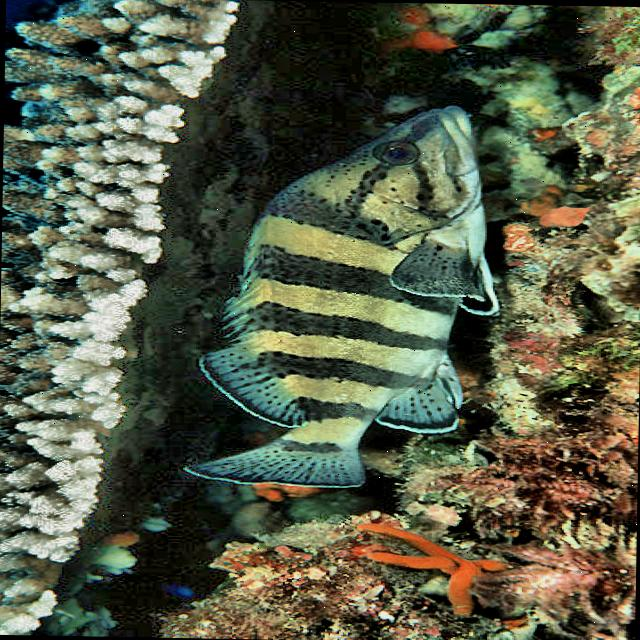fish: (183, 100, 504, 490)
